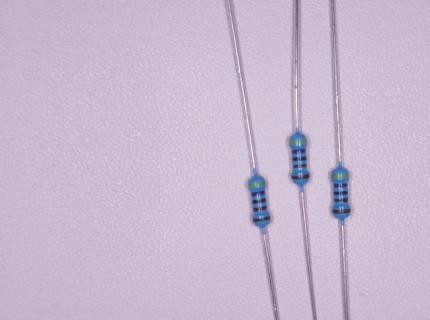Black band: (252, 198, 267, 204), (292, 156, 307, 161), (334, 191, 348, 195)
Brown band: (252, 216, 271, 222), (291, 173, 309, 179), (332, 209, 351, 214), (253, 206, 267, 212), (334, 198, 348, 203), (293, 164, 307, 168)
Violet band: (251, 190, 265, 197), (292, 148, 306, 154), (333, 183, 348, 188)
Yellow band: (247, 181, 266, 188), (289, 139, 308, 144), (331, 174, 349, 178)
